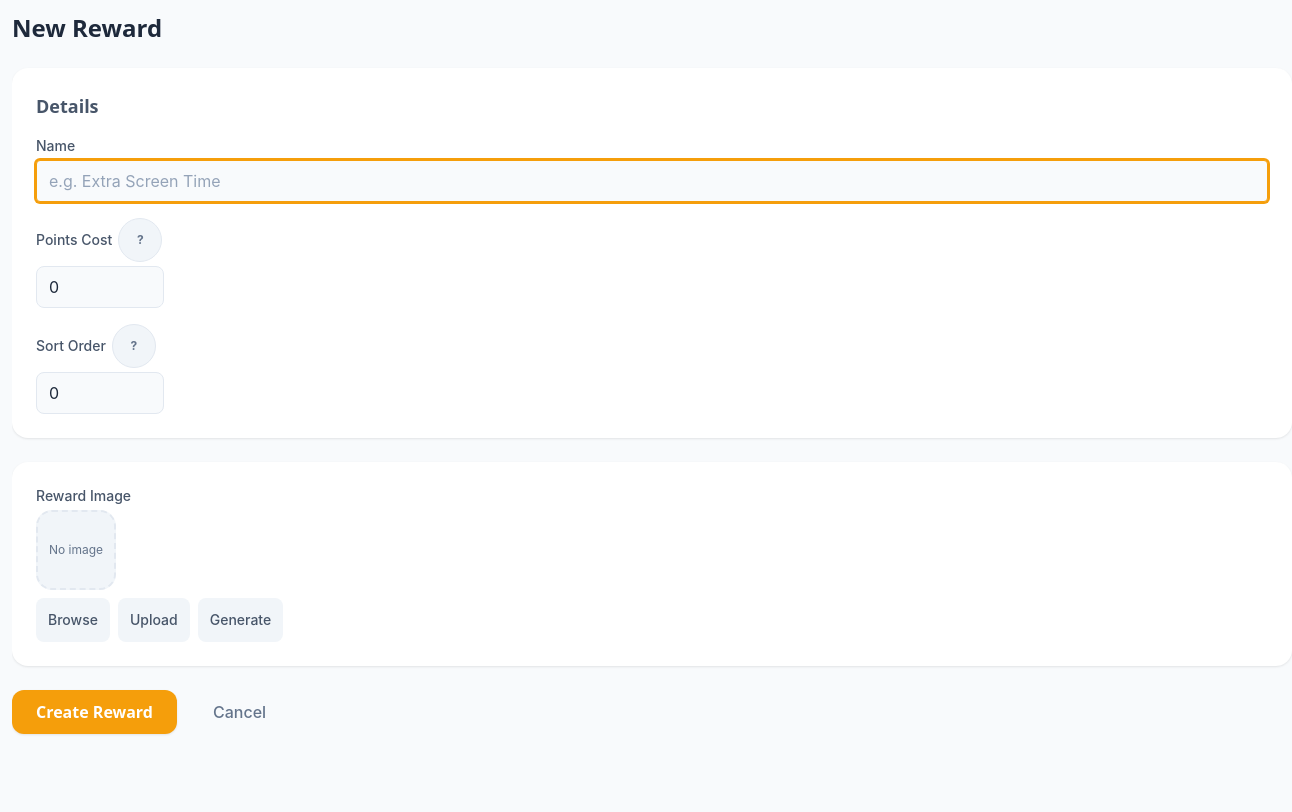
Scenario: AdminRewardForm › shows error message when create fails
In the field labelled "Name": (652, 181) [36,160,1268,202], type "Test Reward"
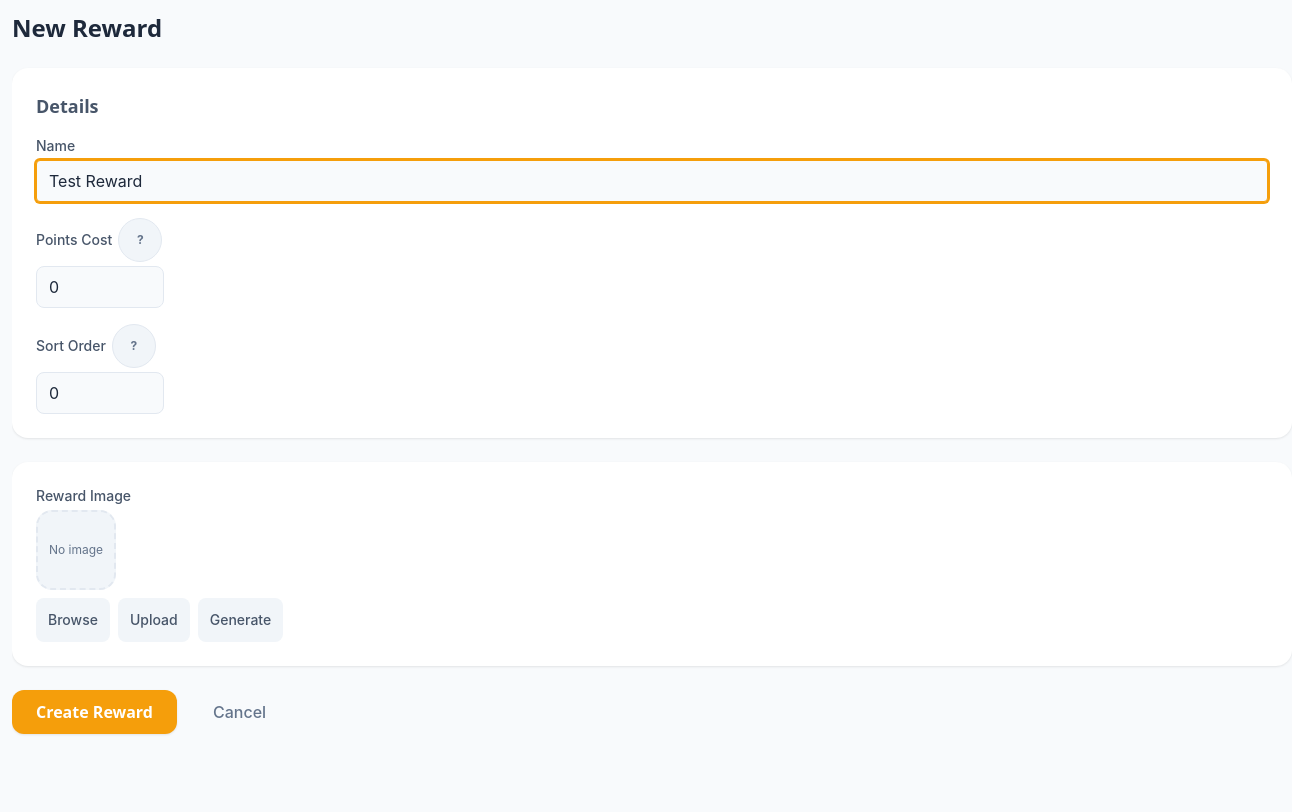
Click the button "Create Reward": click(94, 712) [12,690,177,734]
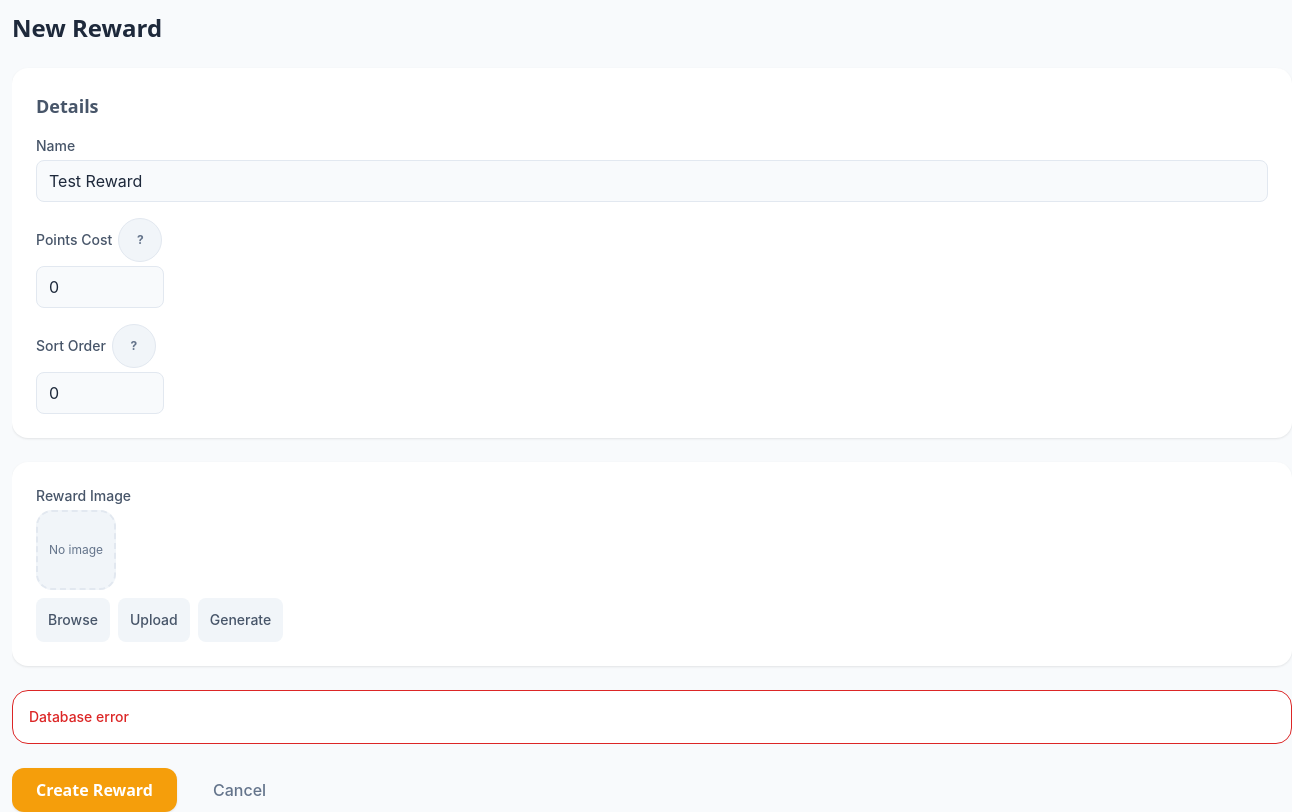
Result: the message "Database error" is shown at [12,690,1291,744]
